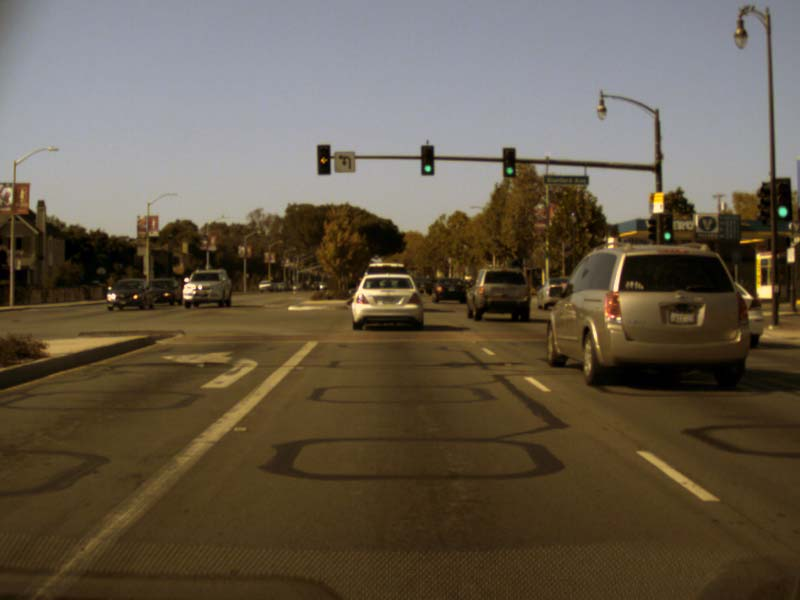Green: (775, 176, 791, 219), (421, 146, 433, 174), (503, 149, 515, 177), (661, 219, 672, 242)
Yellow: (318, 145, 328, 172)
